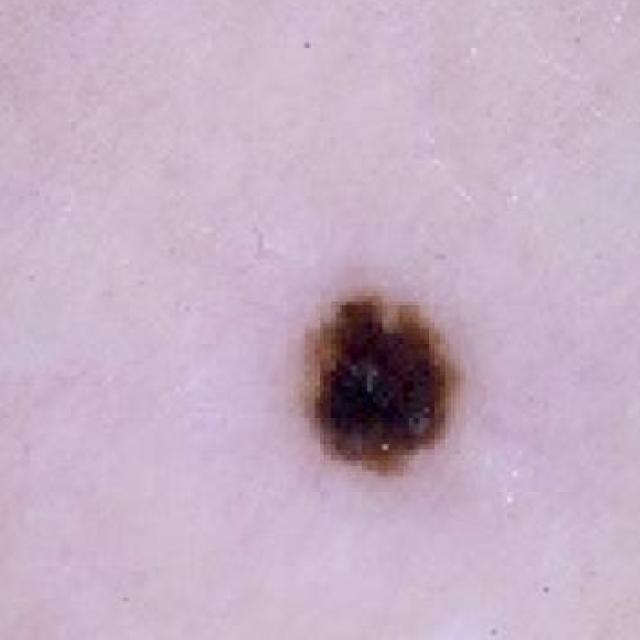BKL: (273, 279, 462, 506)
